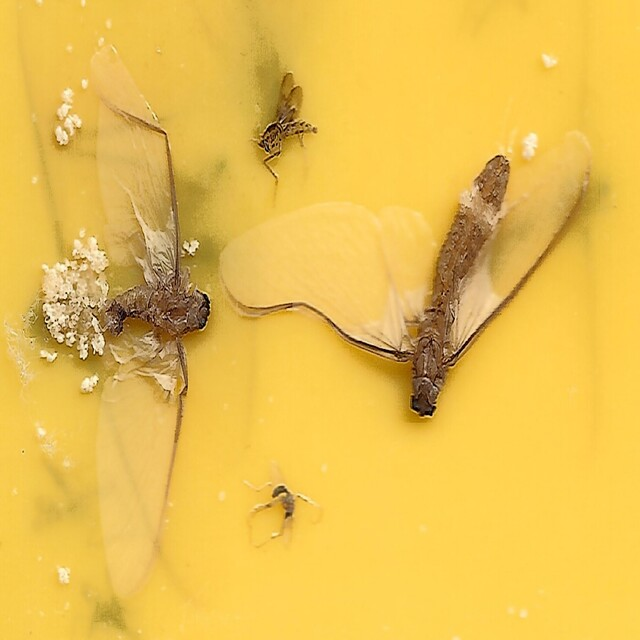Ephemeroptera: (221, 154, 592, 427), (48, 86, 215, 566)
Nematocera: (255, 74, 319, 174), (268, 482, 300, 528)
